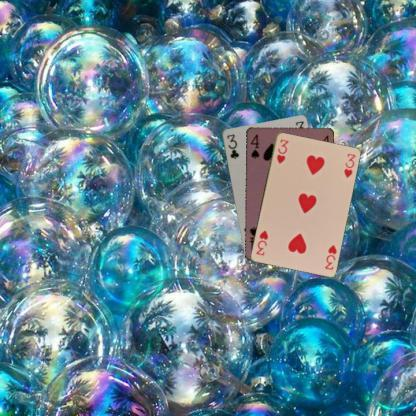3c: (224, 132, 240, 160)
3h: (322, 242, 338, 272), (274, 136, 290, 165)
4s: (248, 131, 260, 160)
